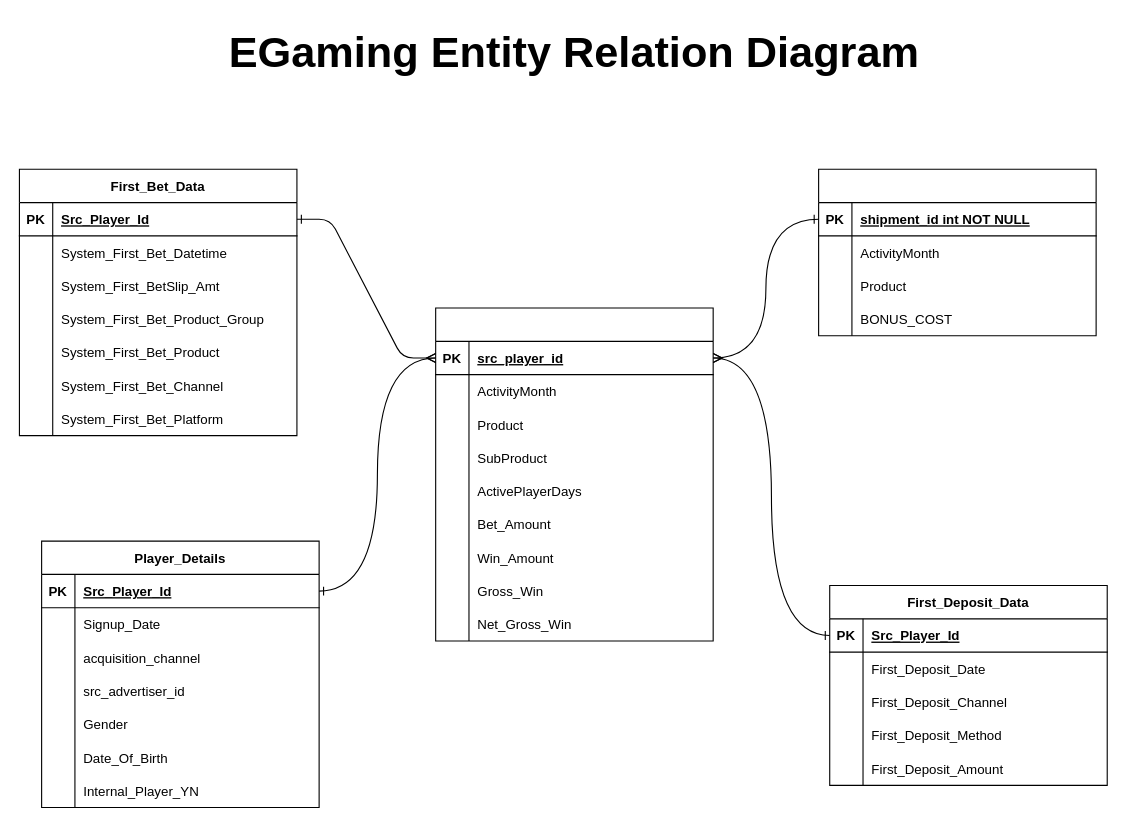
Image size: 1127x827. Some labels were removed from this diagram. Each missing label, with the box of its shape:
BonusCost_Data: (818, 168, 1096, 336)
Player_Activity_Data: (435, 307, 713, 641)
